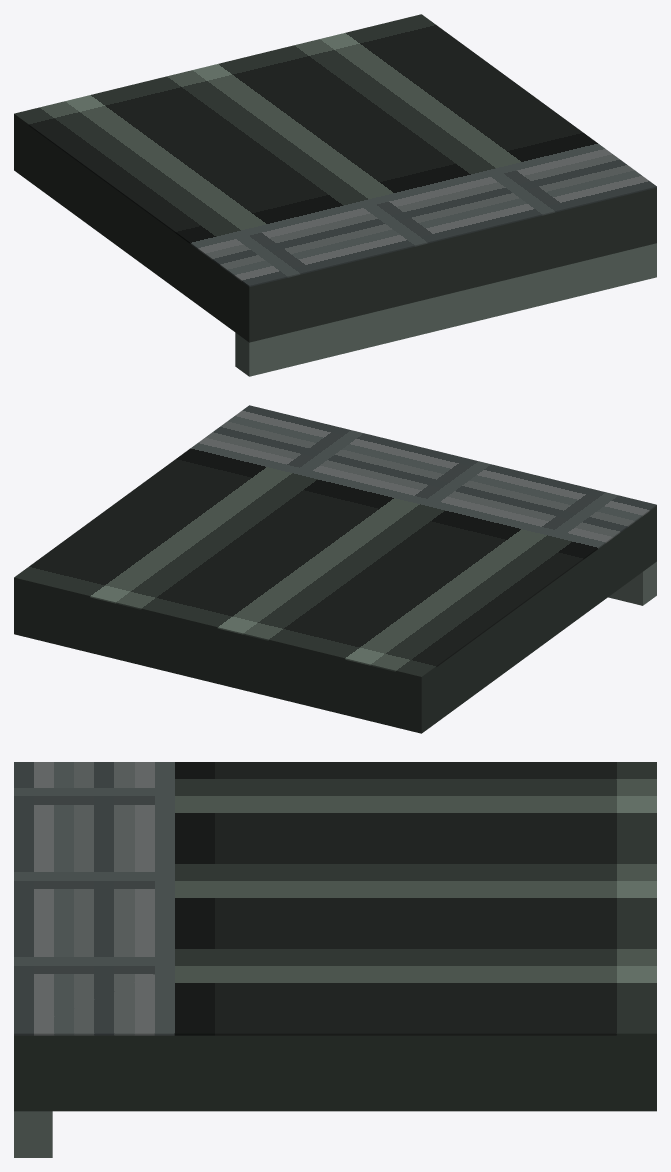
Rendered from CMU3DInteriorVehicleVanExterior2.glb.
3 renders of one model, top to bottom at view 1: azimuth 30°, elevation 25°; view 2: azimuth 150°, elevation 25°; view 3: azimuth 270°, elevation 25°, orthographic. The views are drawn at different scales.
Visible parts, largest first — view 1: overhead armor source finish, overhead armor, inner roof rib; view 2: overhead armor source finish, overhead armor, inner roof rib; view 3: overhead armor source finish, overhead armor, inner roof rib.
Part boxes in pixels (x1,y1,x2,y2): overhead armor source finish: (14,14,656,286); overhead armor: (14,115,656,342); inner roof rib: (235,243,656,376); overhead armor source finish: (14,405,656,677); overhead armor: (14,506,656,733); inner roof rib: (608,561,656,605); overhead armor source finish: (14,762,656,1035); overhead armor: (14,1035,656,1111); inner roof rib: (14,1111,52,1157).
Size of the model in its own units: 1 by 0.213 by 1.
Materials: 3 (1 with a texture image).
